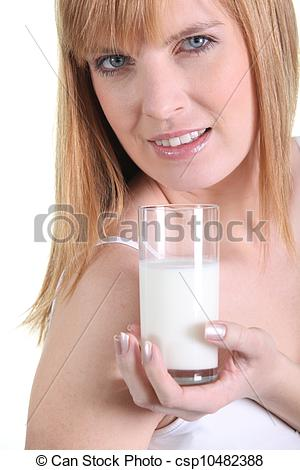glass of milk: (139, 204, 223, 384)
